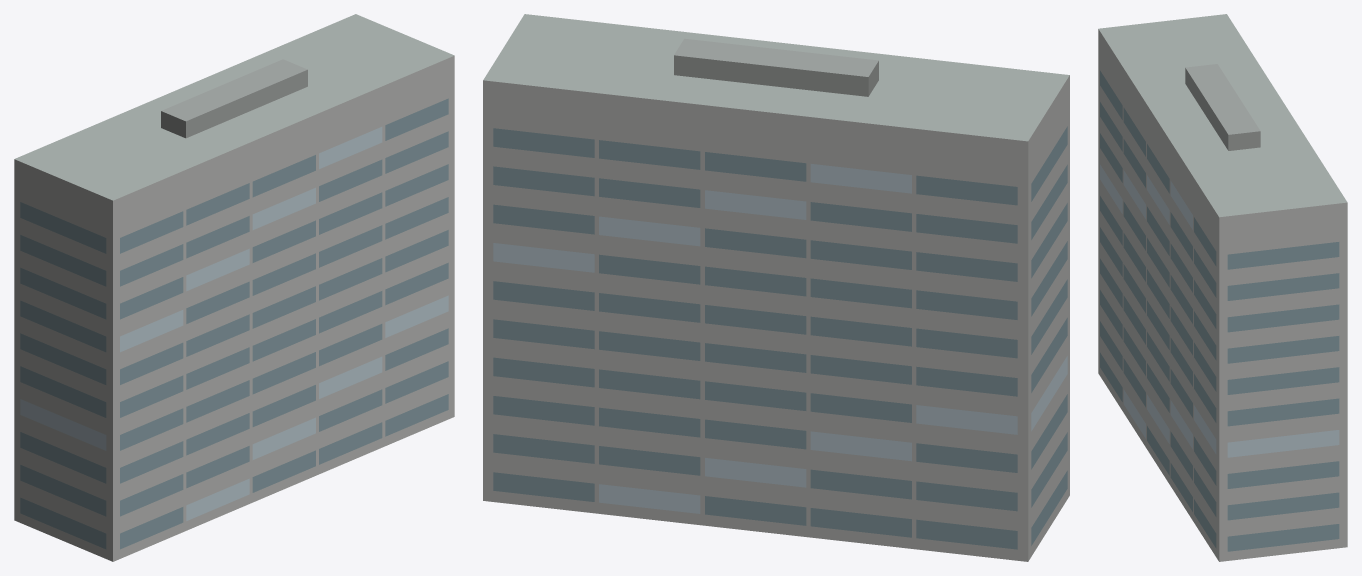
Rendered from fallback-godeok-raemian-hillstate-302.glb.
3 views of the same model, side by side, from view 1: azimuth 30°, elevation 25°; view 2: azimuth 150°, elevation 25°; view 3: azimuth 270°, elevation 25° (orthographic). The views are drawn at different scales.
Parts seen in each view (by area): view 1: fallback-godeok-raemian-hillstate-302; view 2: fallback-godeok-raemian-hillstate-302; view 3: fallback-godeok-raemian-hillstate-302.
Boxes of the visible parts, <box> form: fallback-godeok-raemian-hillstate-302: <box>14,14,454,561</box>; fallback-godeok-raemian-hillstate-302: <box>483,14,1069,561</box>; fallback-godeok-raemian-hillstate-302: <box>1098,14,1347,561</box>.
Bounding box in the file's own units: 45.9 × 38 × 23.79.
